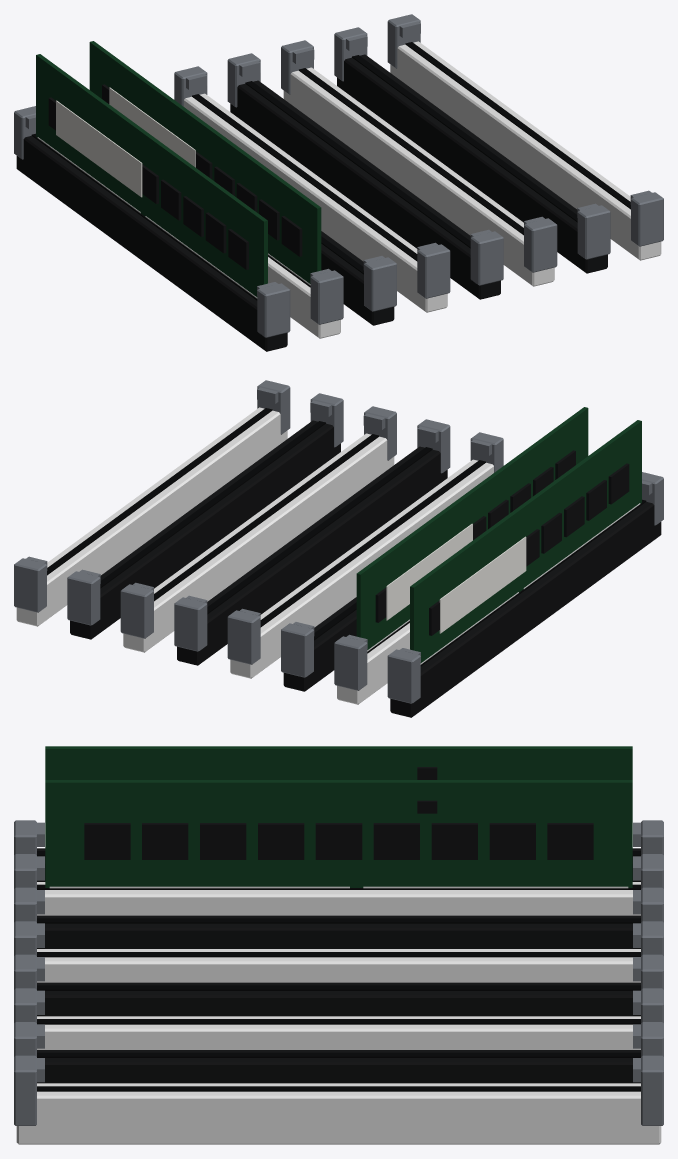
Rendered from hwm_ram_ddr2_4gb.glb.
3 renders of one model, top to bottom at view 1: azimuth 30°, elevation 25°; view 2: azimuth 150°, elevation 25°; view 3: azimuth 270°, elevation 25°, orthographic. The views are drawn at different scales.
Visible parts, largest first — view 1: Slots, Stick_0, Stick_1, Latch_1_1, Latch_4_1, Latch_6_1, Latch_5_1, Latch_0_1, Latch_3_1, Latch_7_1, Latch_2_1, Latch_4_0 (+5 smaller); view 2: Slots, Stick_0, Stick_1, Latch_1_0, Latch_4_0, Latch_6_0, Latch_5_0, Latch_0_0, Latch_3_0, Latch_7_0, Latch_2_0, Latch_4_1 (+5 smaller); view 3: Slots, Stick_1, Stick_0, Latch_7_0, Latch_7_1, Latch_2_0, Latch_2_1, Latch_4_0, Latch_4_1, Latch_0_0, Latch_0_1, Latch_5_0 (+7 smaller).
Part boxes in pixels (<box>): Slots: <box>16,41,661,351</box>; Stick_0: <box>36,54,267,298</box>; Stick_1: <box>89,41,321,285</box>; Latch_1_1: <box>310,268,343,324</box>; Latch_4_1: <box>470,229,503,285</box>; Latch_6_1: <box>577,203,610,259</box>; Latch_5_1: <box>524,216,557,272</box>; Latch_0_1: <box>257,282,290,337</box>; Latch_3_1: <box>417,242,450,298</box>; Latch_7_1: <box>630,190,663,246</box>; Latch_2_1: <box>363,256,396,311</box>; Latch_4_0: <box>227,53,260,107</box>; Slots: <box>16,407,661,717</box>; Stick_0: <box>410,420,641,664</box>; Stick_1: <box>356,407,588,651</box>; Latch_1_0: <box>334,634,367,690</box>; Latch_4_0: <box>174,595,207,651</box>; Latch_6_0: <box>67,569,100,625</box>; Latch_5_0: <box>120,582,153,638</box>; Latch_0_0: <box>387,648,420,703</box>; Latch_3_0: <box>227,608,260,664</box>; Latch_7_0: <box>14,556,47,612</box>; Latch_2_0: <box>281,622,314,677</box>; Latch_4_1: <box>417,419,450,473</box>; Slots: <box>16,848,661,1144</box>; Stick_1: <box>45,780,632,888</box>; Stick_0: <box>45,746,632,779</box>; Latch_7_0: <box>633,1055,663,1125</box>; Latch_7_1: <box>14,1055,44,1125</box>; Latch_2_0: <box>633,887,663,922</box>; Latch_2_1: <box>14,887,44,922</box>; Latch_4_0: <box>633,954,663,989</box>; Latch_4_1: <box>14,954,44,989</box>; Latch_0_0: <box>633,820,663,855</box>; Latch_0_1: <box>14,820,44,855</box>; Latch_5_0: <box>633,988,663,1022</box>.
Size of the model in its own units: 0.1346 by 0.0389 by 0.1472.
